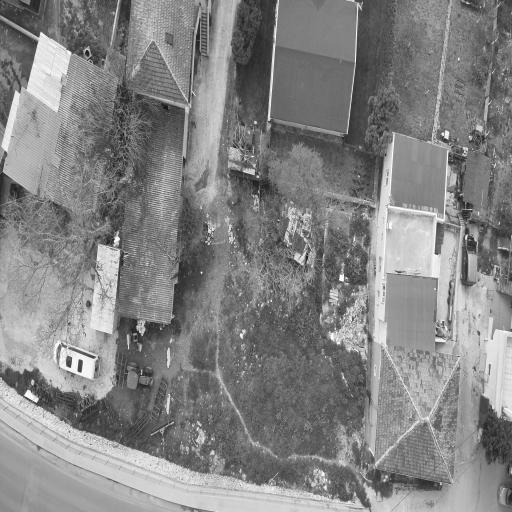car: (54, 341, 100, 378), (123, 363, 153, 390), (462, 233, 477, 284), (498, 484, 511, 505)
